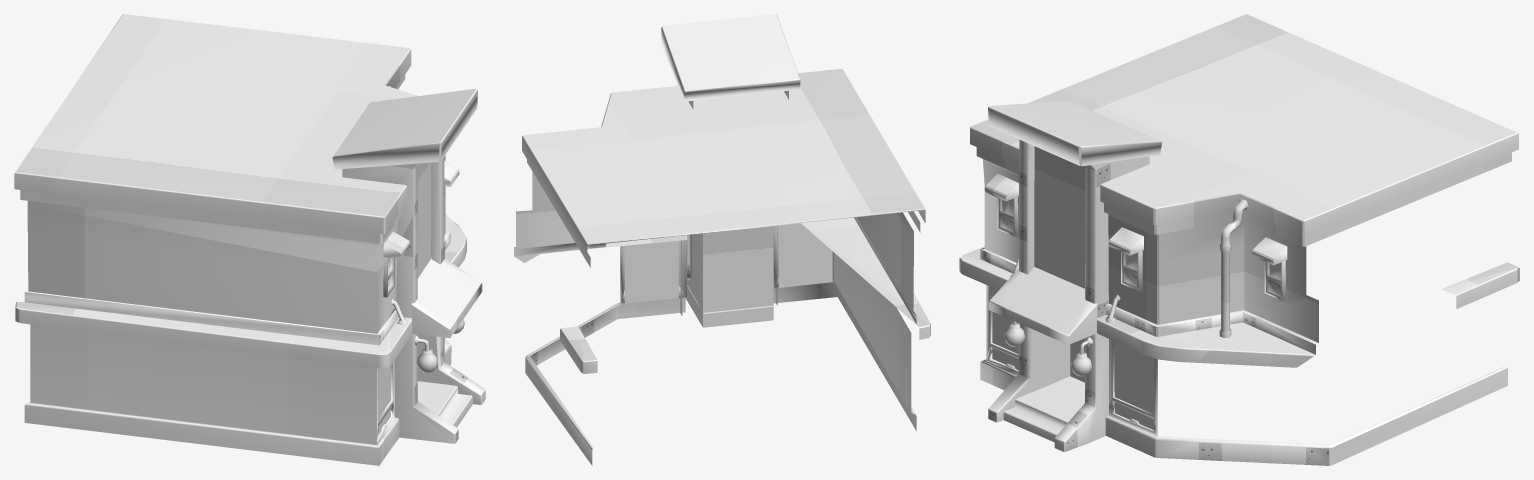
File: CivicBuilding.fbx
3 renders of one model, left to right at view 1: azimuth 30°, elevation 25°; view 2: azimuth 150°, elevation 25°; view 3: azimuth 270°, elevation 25°, orthographic. The views are drawn at different scales.
Visible parts, largest first — view 1: CivicBuilding; view 2: CivicBuilding; view 3: CivicBuilding.
Part boxes in pixels (<box>): CivicBuilding: <box>14,14,485,465</box>; CivicBuilding: <box>514,14,930,465</box>; CivicBuilding: <box>959,14,1519,465</box>.
Size of the model in its own units: 942 by 641 by 1061.
